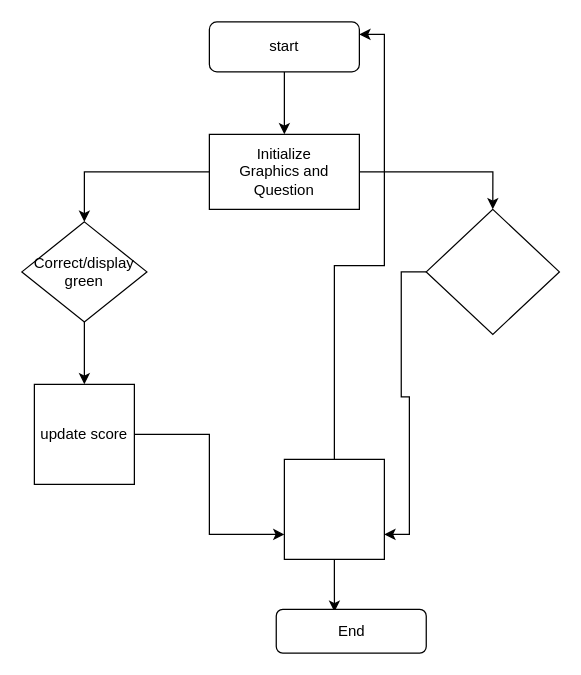
Image size: 581x675. Some labels were removed from this diagram. The box of each missing label's shape, as (x1, y1, x2, y2) in pixels:
Game over: (283, 458, 384, 559)
Wrong/display red: (425, 208, 559, 334)
